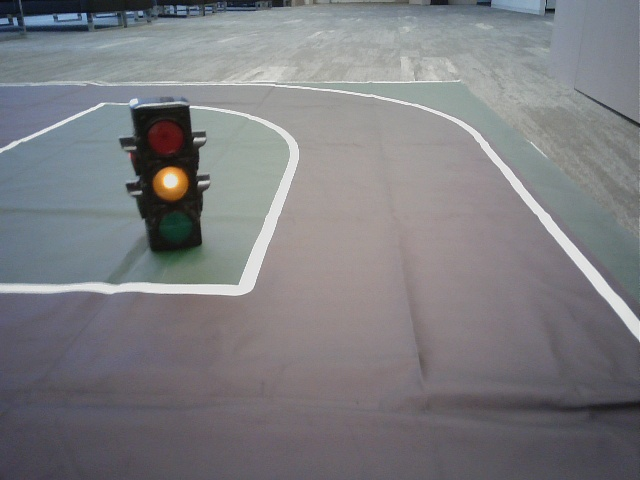yellow: (138, 106, 197, 244)
